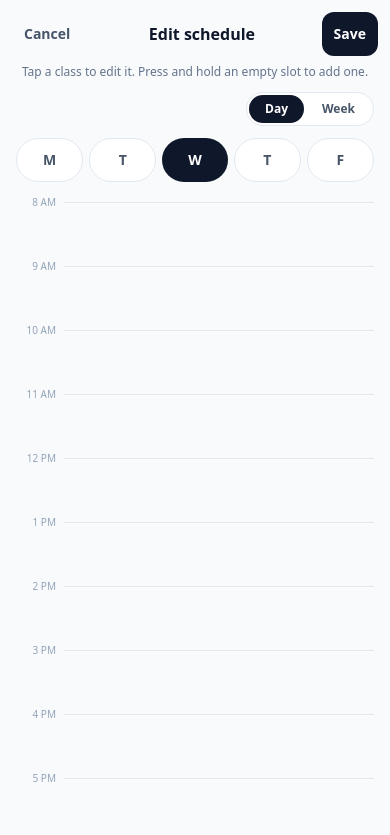
Test: MobileEditor › opens the sheet for a tapped class
Step 1. Click the button named "Mon" → (50, 160), box [16,138,83,182]
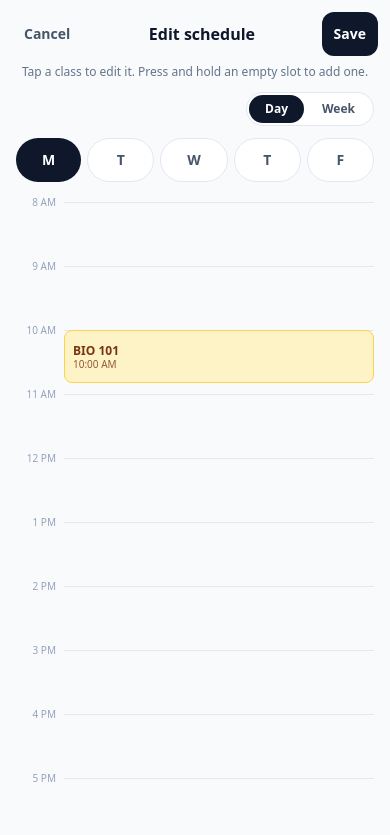
Step 2. Click the button with aria-label "Edit BIO 101" → (96, 350), box [64,330,374,383]
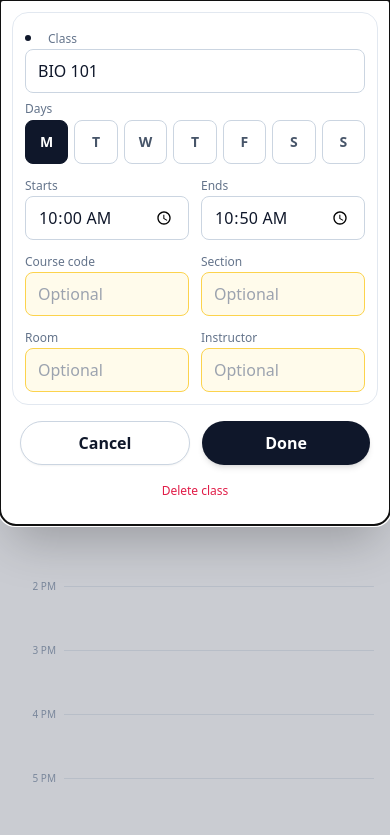
Result: the dialog named "Edit BIO 101" is shown
Result: the field showing "BIO 101" holds "BIO 101" at [25,49,365,93]
